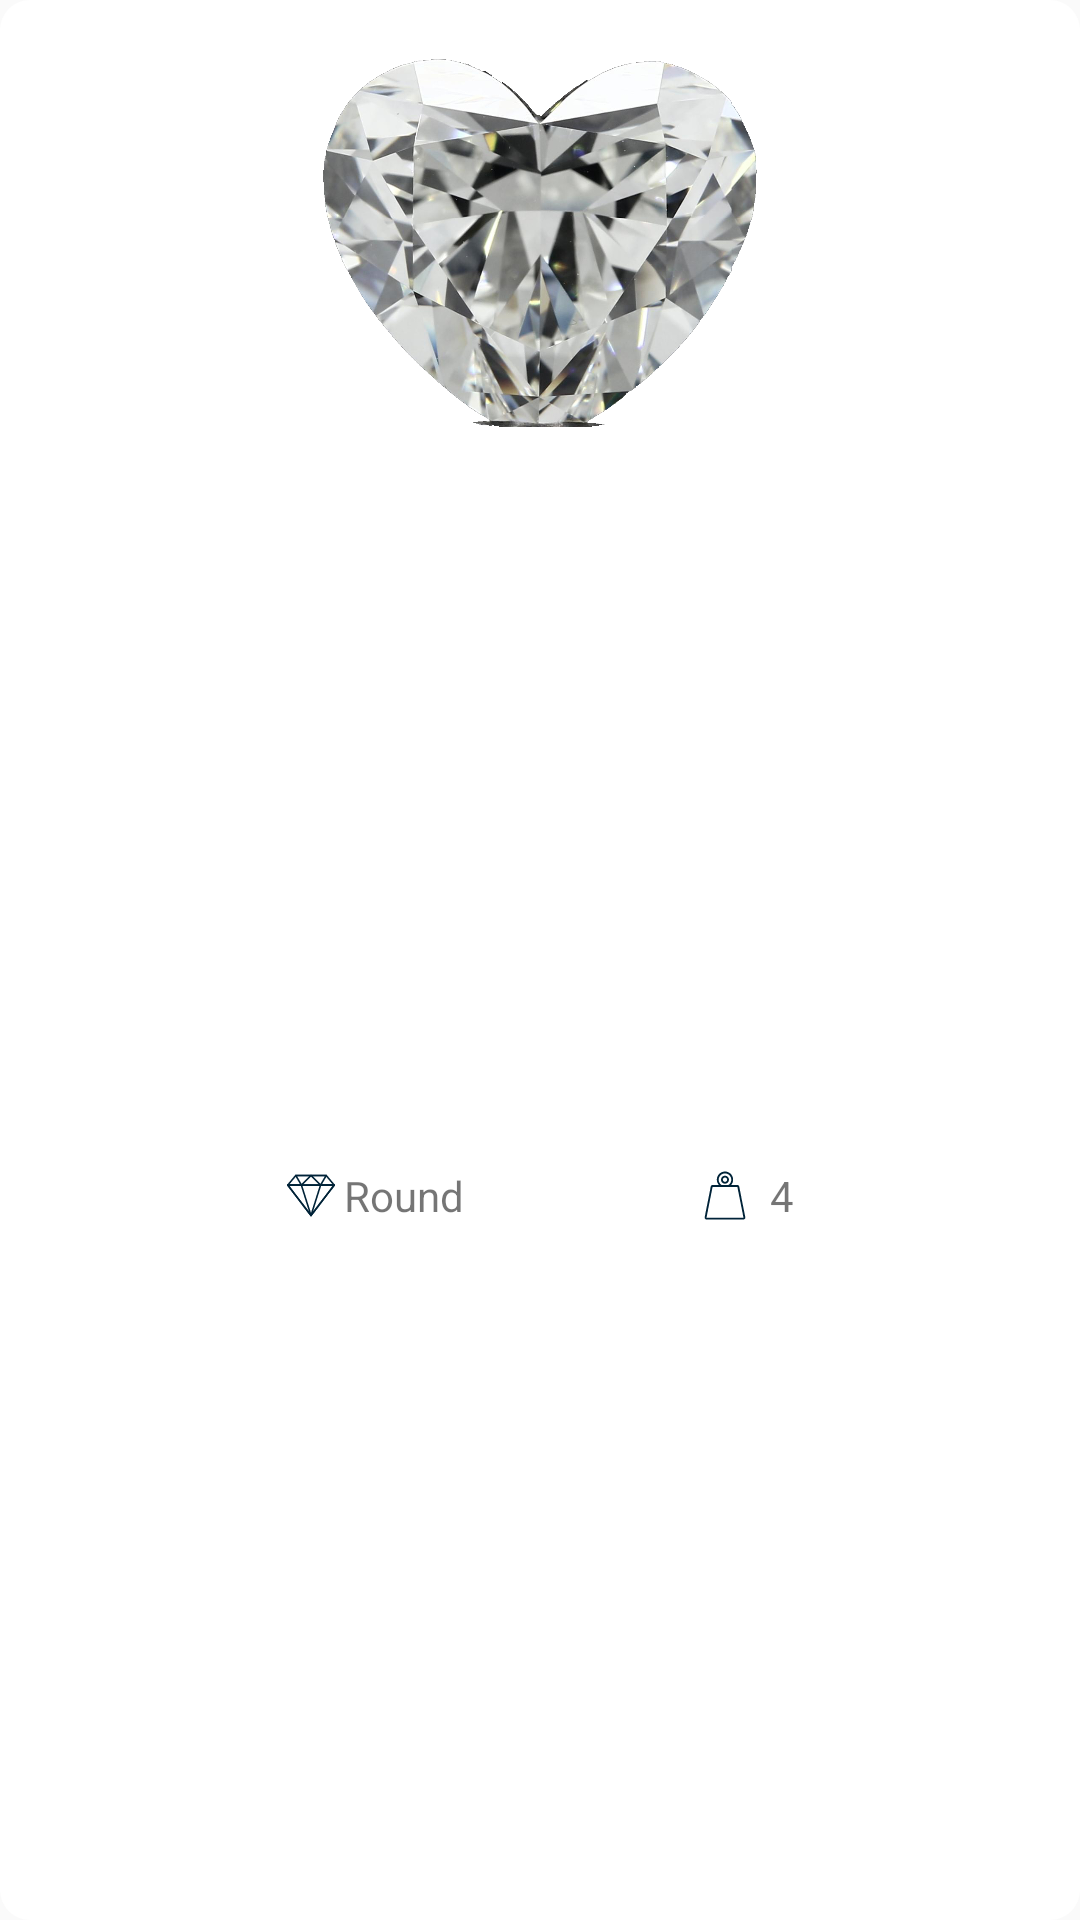

Where to tap for icons on this 1080px×1920px app screen, as [x,y]:
diamond: [311,1195]
weight: [725,1195]
